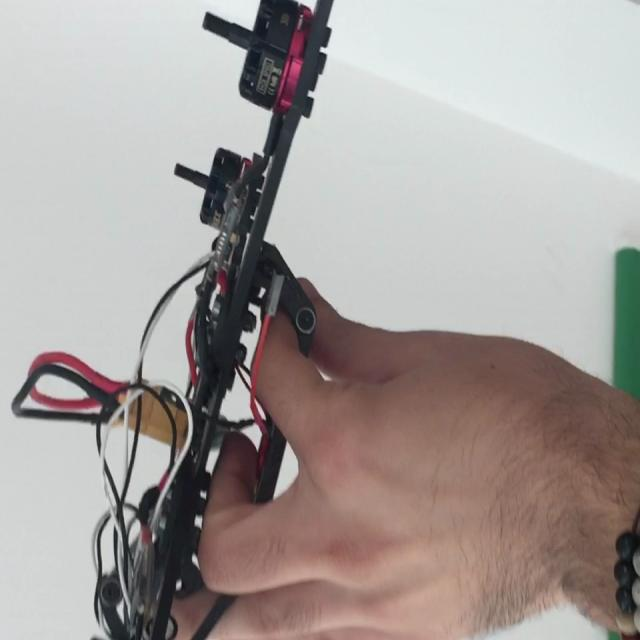drone: (34, 0, 348, 640)
